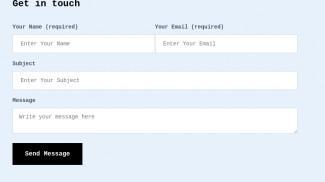button: (13, 144, 84, 166)
input: (13, 72, 299, 91), (156, 35, 299, 55), (13, 35, 156, 53)
label: (155, 23, 225, 32), (13, 1, 81, 9), (13, 23, 79, 31), (12, 61, 38, 67), (13, 98, 37, 104)
